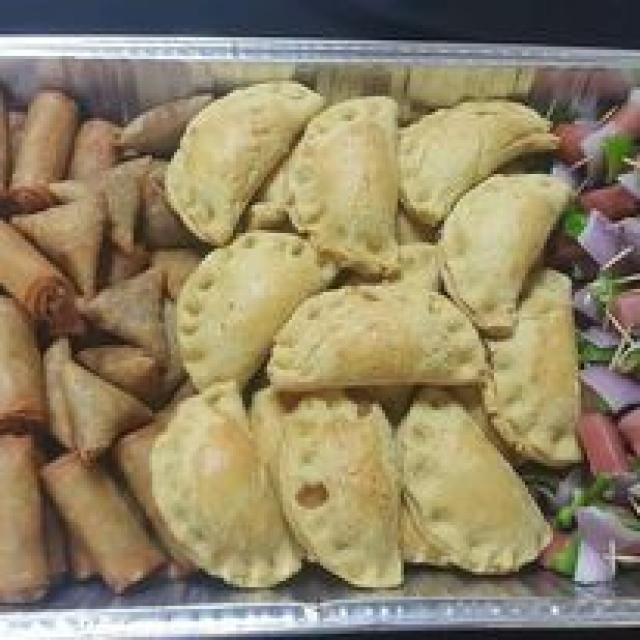Samosa: (81, 97, 168, 444)
Spring Rolls: (2, 76, 74, 604)
